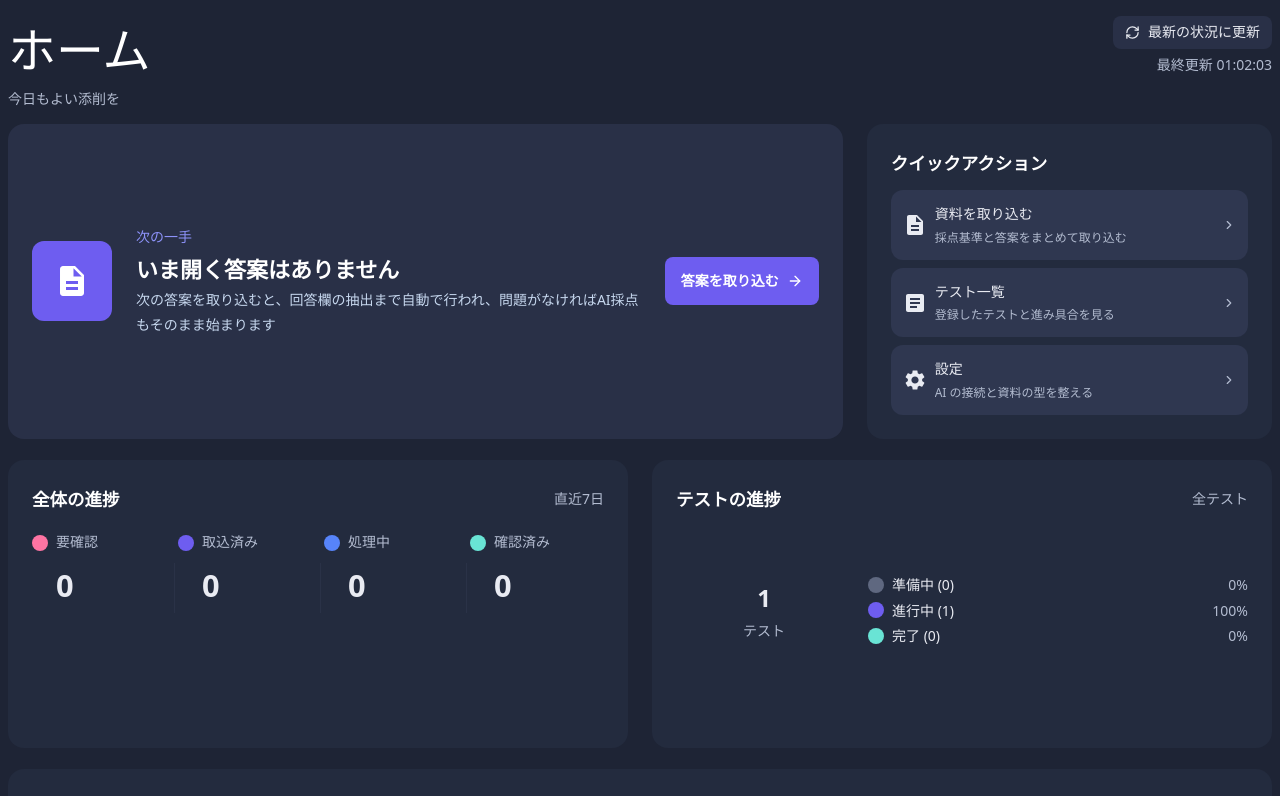
Test case: home reload feedback (Issue #383) › shows the last-updated time and changes it on each successful reload
Expected: the text with test id "home-last-updated" shows "01:02:03", [1216, 54, 1272, 74]
Click the button with test id "home-refresh": x=1192, y=32 [1113, 16, 1272, 48]
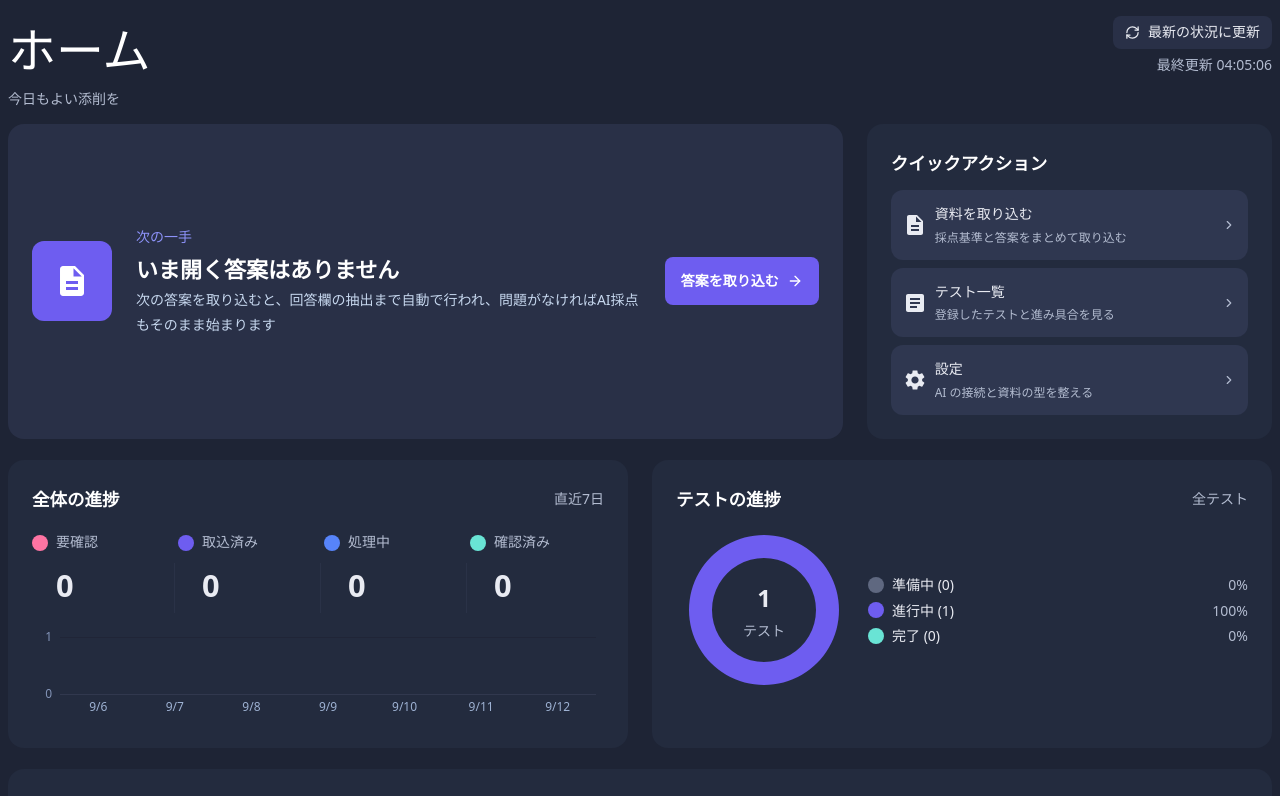
Expected: the text with test id "home-last-updated" shows "04:05:06", [1216, 54, 1272, 74]
